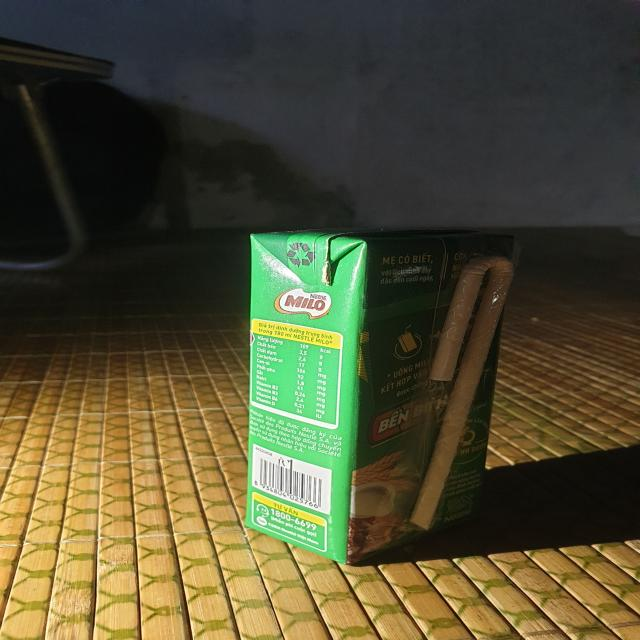Milo: (252, 226, 512, 566)
